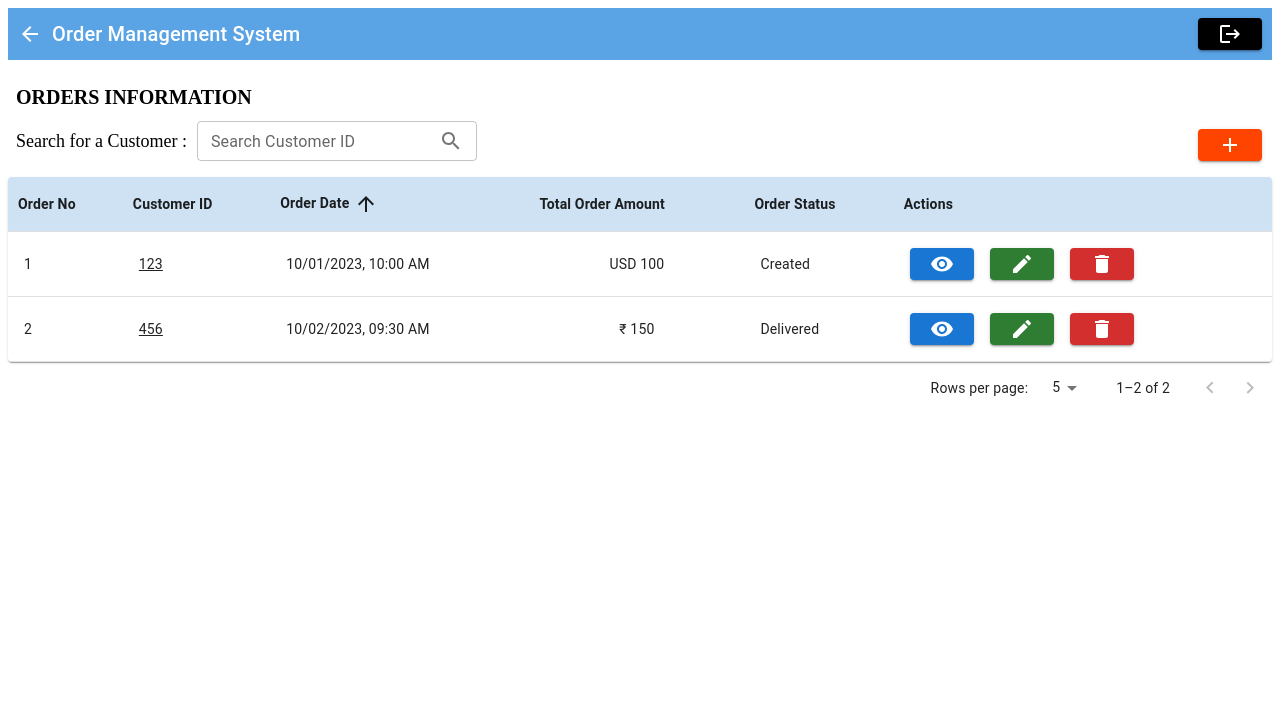
Scenario: Order Component › displays a confirmation dialog when deleting an Order
The image size is (1280, 720).
Check: the text "123" is shown, box [139, 256, 163, 272]
Click the button with test id "deleteicon-1": [1102, 264] box [1070, 248, 1134, 280]
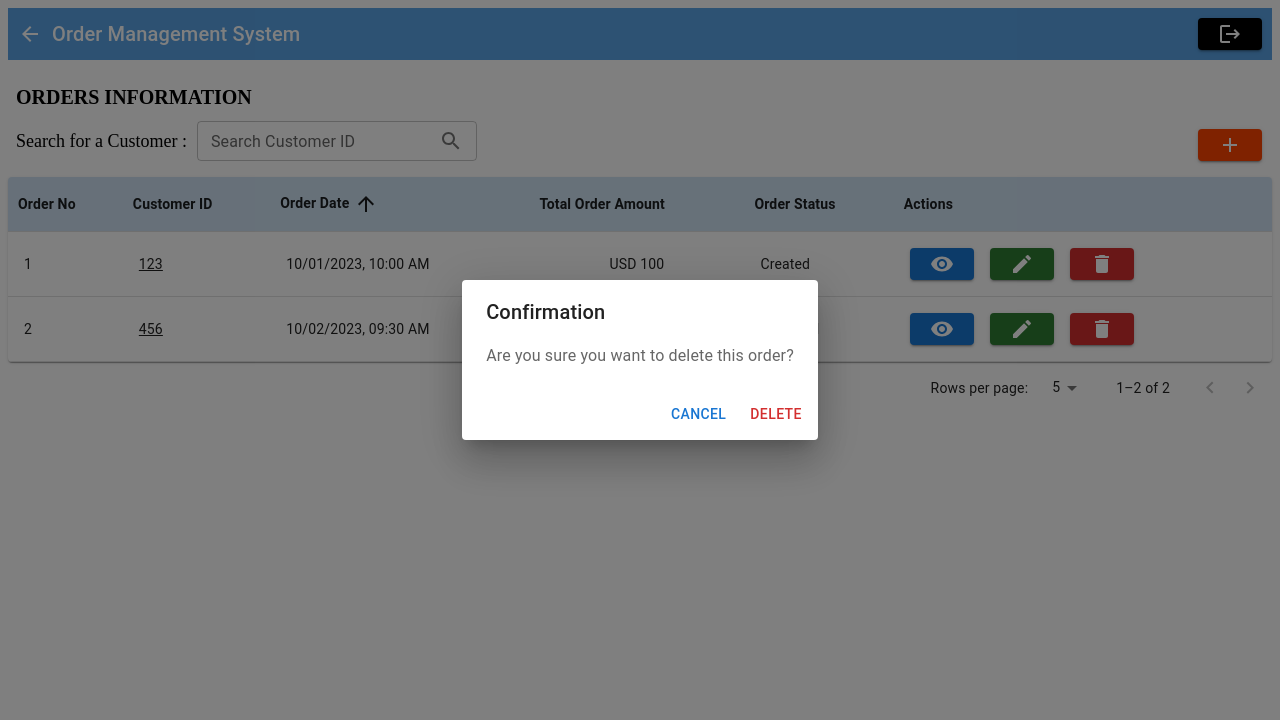
Check: the heading "Confirmation" is shown, box [486, 300, 605, 324]
Check: the text "Are you sure you want to delete this order?" is shown, box [486, 344, 794, 368]
